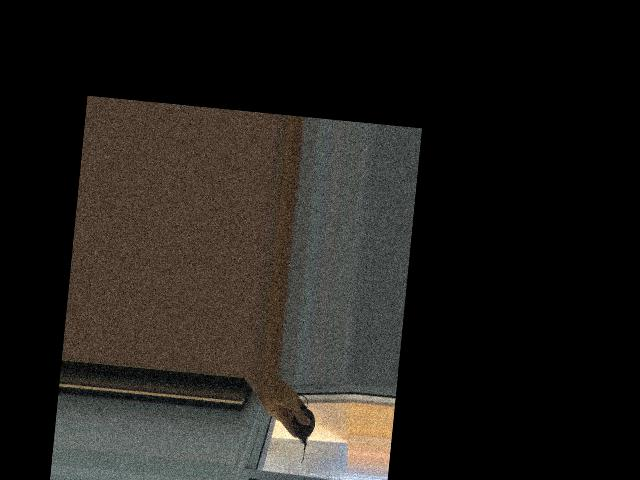beet: (281, 393, 317, 464)
